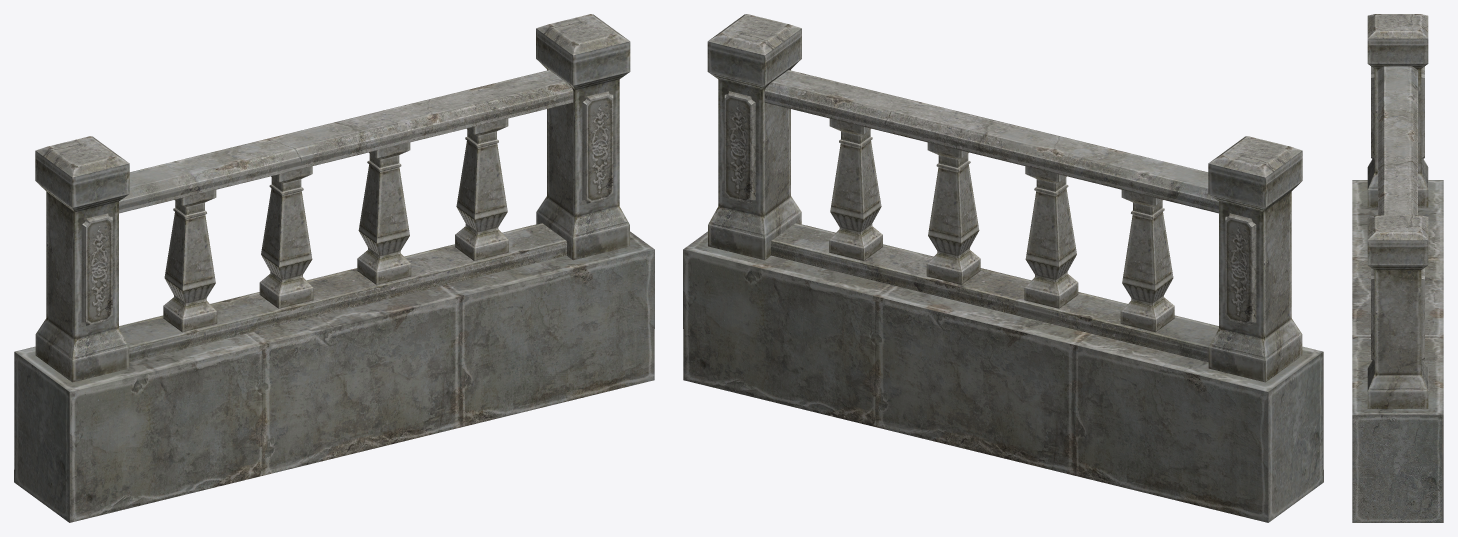
The model's file is bg_lut_lucastle_stairfence01b_sm_lkj.FBX.
3 views of the same model, side by side, from view 1: azimuth 30°, elevation 25°; view 2: azimuth 150°, elevation 25°; view 3: azimuth 270°, elevation 25° (orthographic). The views are drawn at different scales.
Parts seen in each view (by area): view 1: bg_lut_lucastle_stairfence01b_sm_lkj; view 2: bg_lut_lucastle_stairfence01b_sm_lkj; view 3: bg_lut_lucastle_stairfence01b_sm_lkj.
Boxes of the visible parts, box(x1,y1,x2,y2) form: bg_lut_lucastle_stairfence01b_sm_lkj: box(14, 14, 654, 522); bg_lut_lucastle_stairfence01b_sm_lkj: box(683, 14, 1323, 522); bg_lut_lucastle_stairfence01b_sm_lkj: box(1352, 14, 1443, 522).
Size of the model in its own units: 293 by 163 by 48.
